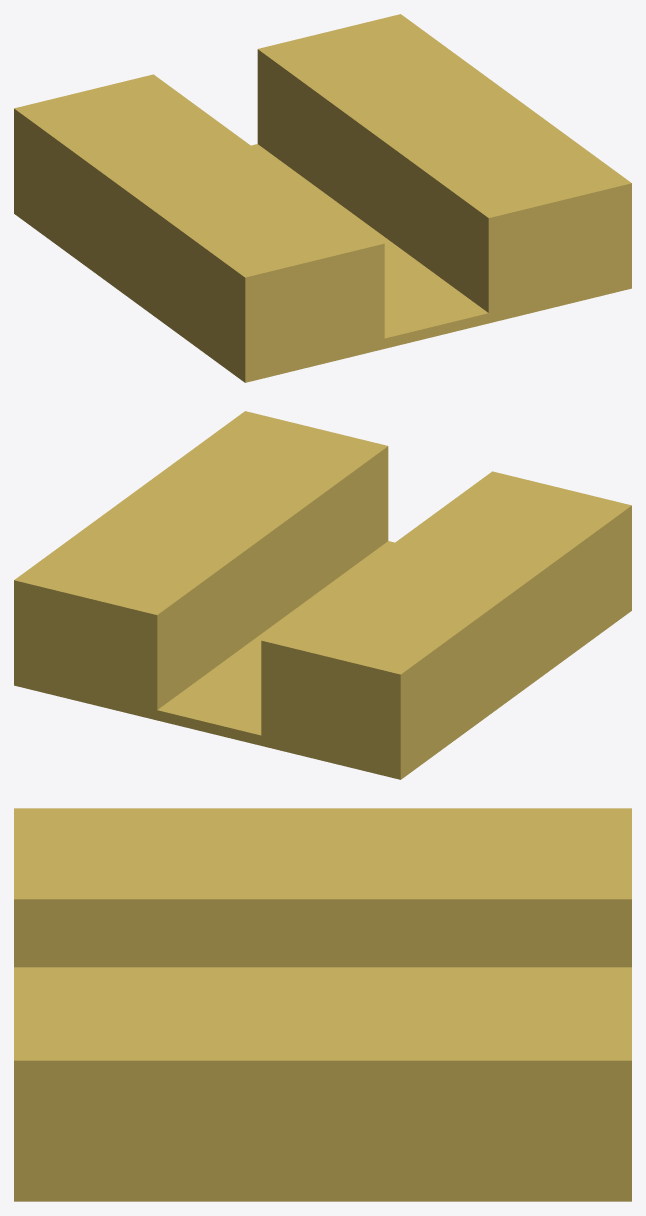
Rendered from Ahsap_Parca_2.fbx.
3 renders of one model, top to bottom at view 1: azimuth 30°, elevation 25°; view 2: azimuth 150°, elevation 25°; view 3: azimuth 270°, elevation 25°, orthographic. The views are drawn at different scales.
Parts seen in each view (by area): view 1: Cube.001; view 2: Cube.001; view 3: Cube.001.
Part boxes in pixels (box(x1,y1,x2,y2)): Cube.001: box(14, 14, 631, 382); Cube.001: box(14, 411, 631, 779); Cube.001: box(14, 808, 631, 1201).
Bounding box in the file's own units: 147 × 38.32 × 152.
